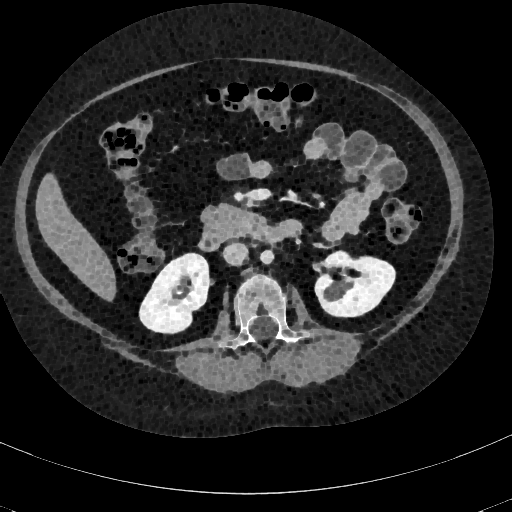Lesion: (322, 279, 344, 308)
